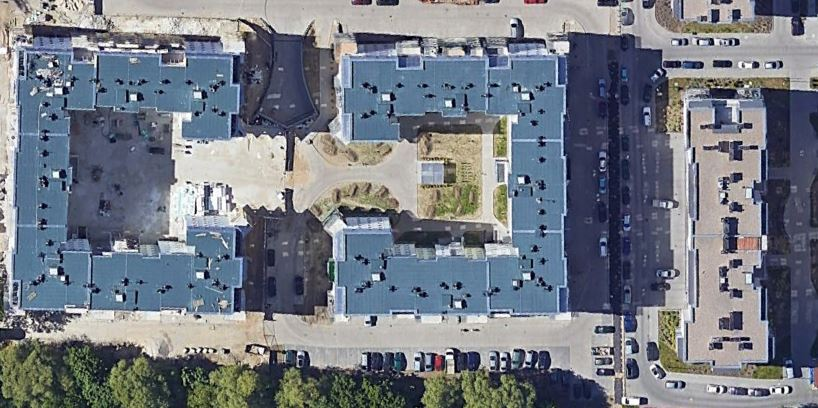block of flats: (318, 30, 582, 324), (3, 37, 256, 316), (676, 85, 777, 379)
